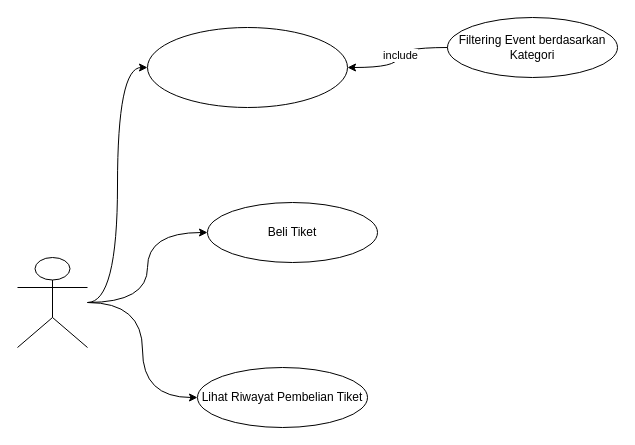
Some shapes in this 635 by 445 pixel diagram are drawn without their labels. Here are the shapes that lost their labels. From the top down, the centre of each, then its label:
At point 247,67: "Cari Event".
At point 52,302: "Pembeli".
